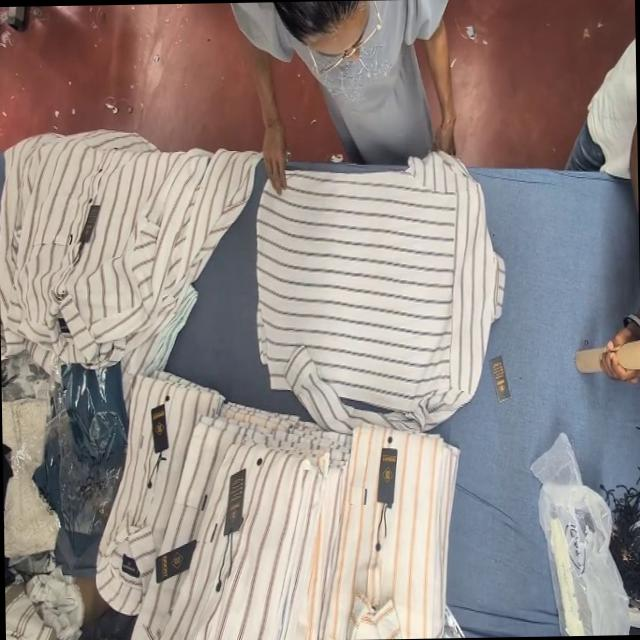new-garment: (256, 153, 504, 430)
